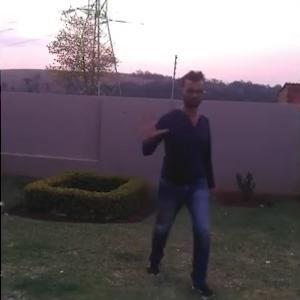follow_hand: (136, 106, 168, 139)
